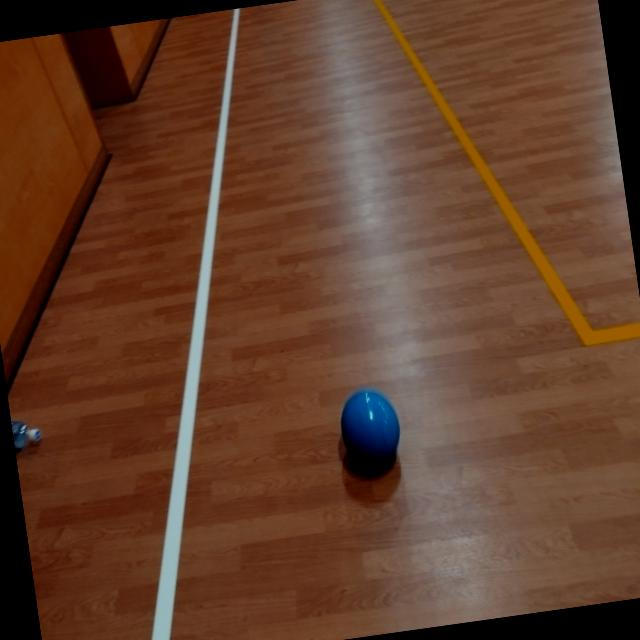blue_ball: (335, 385, 407, 475)
